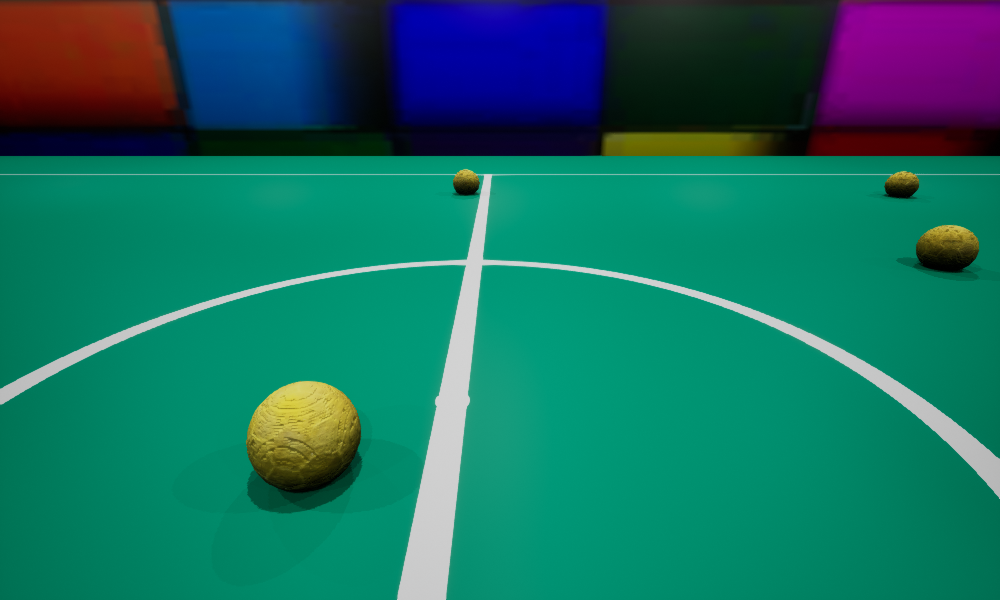b: (246, 381, 360, 492), (916, 225, 978, 270), (884, 171, 918, 197), (453, 169, 479, 194)
